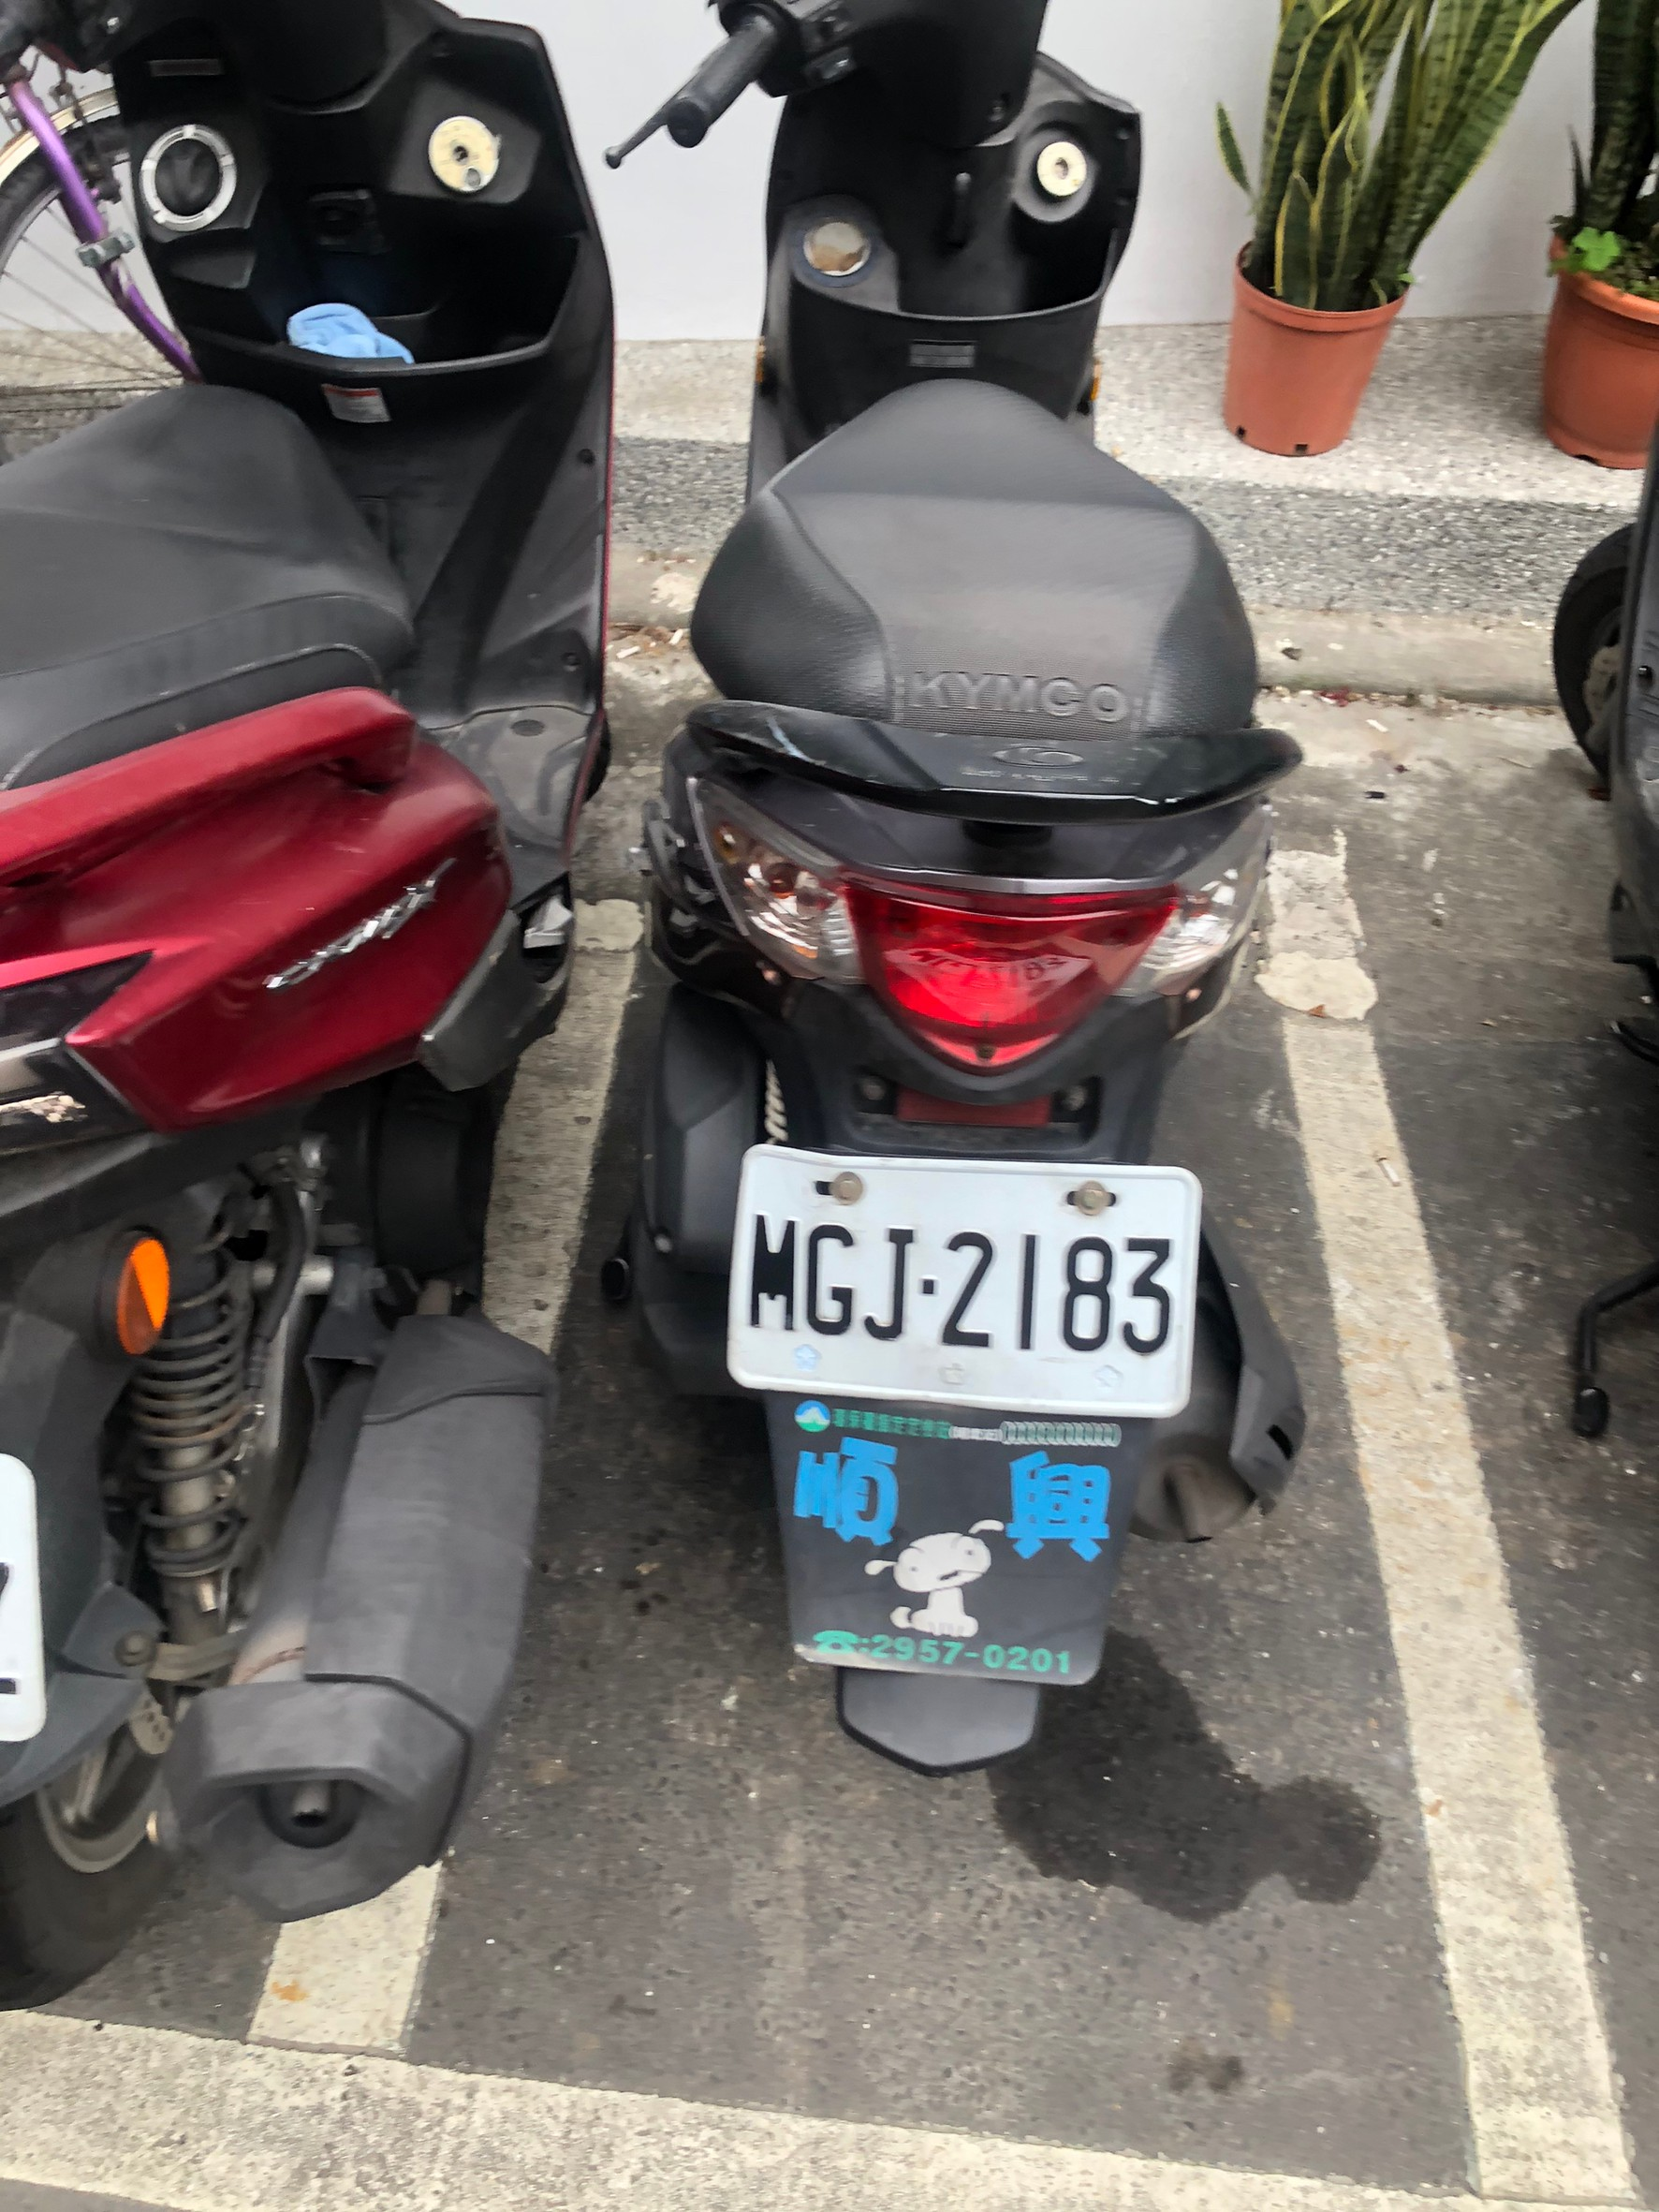LP: (737, 1149, 1197, 1417)
